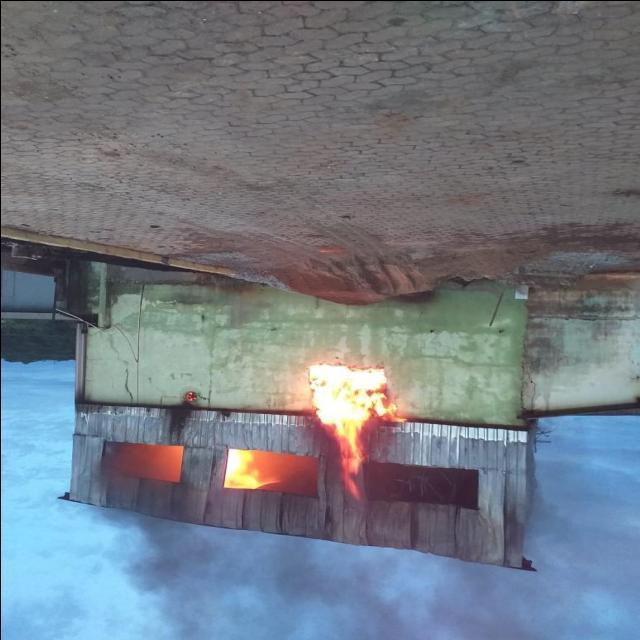Fire: (302, 363, 408, 499), (221, 449, 285, 488)
